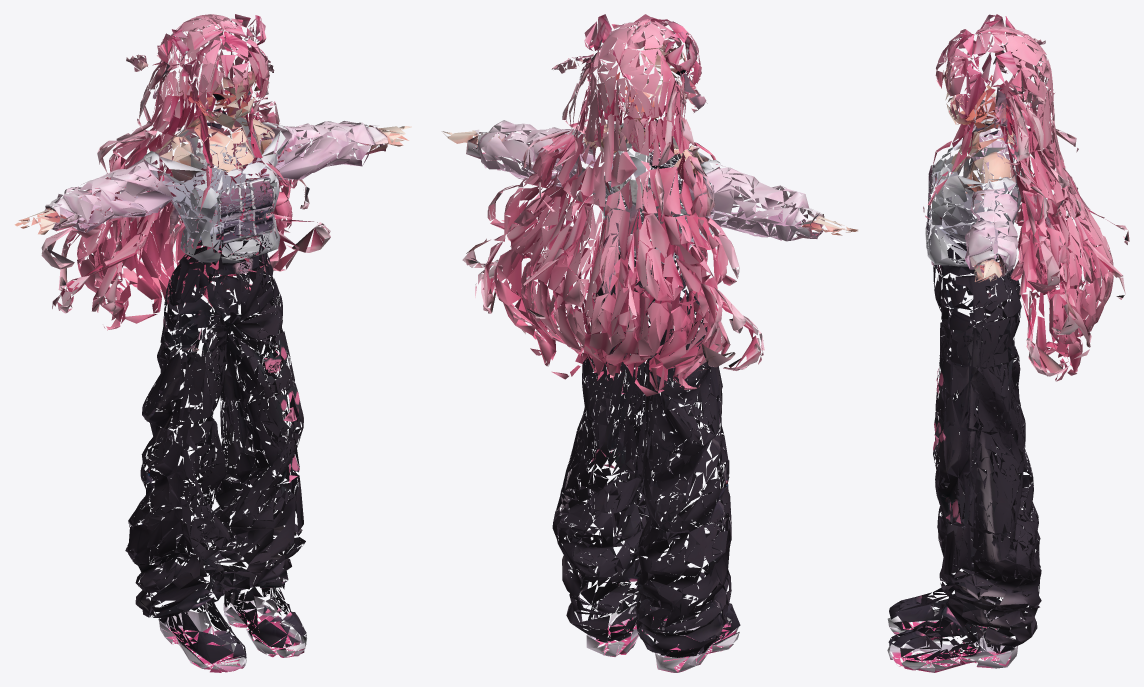
The model's file is char_3.glb.
The picture shows the model from 3 angles, left to right: view 1: azimuth 30°, elevation 25°; view 2: azimuth 150°, elevation 25°; view 3: azimuth 270°, elevation 25°; orthographic projection. The views are drawn at different scales.
Parts seen in each view (by area): view 1: tripo_part_0; view 2: tripo_part_0; view 3: tripo_part_0.
Part boxes in pixels (x1,y1,x2,y2): tripo_part_0: [14, 14, 411, 672]; tripo_part_0: [442, 14, 857, 672]; tripo_part_0: [887, 14, 1129, 672].
Bounding box in the file's own units: 1.16 × 1.7 × 0.6037.
Materials: 29 (29 with a texture image).
